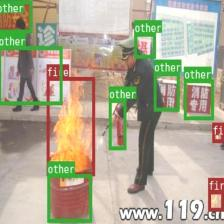fire: (46, 77, 95, 175), (207, 190, 223, 210), (212, 122, 223, 142)
